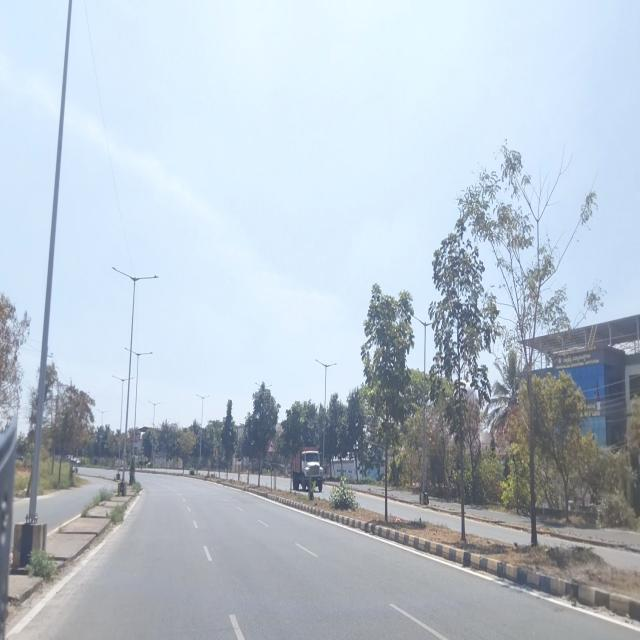bien_cam: (267, 439, 276, 453)
